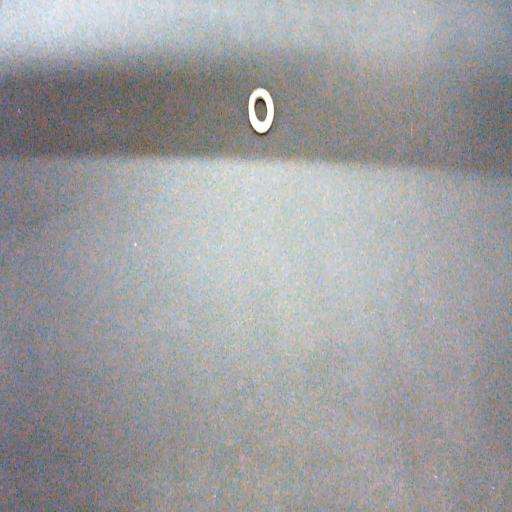washer: (248, 88, 274, 134)
